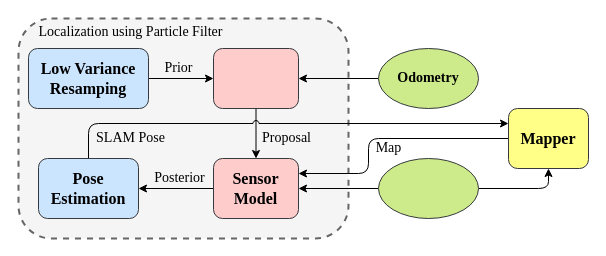
Image size: 606x256. Some labels were removed from this diagram. Each missing label, with the centre of its shape:
Action Model: point 255,78
LIDAR Scan: point 428,188
